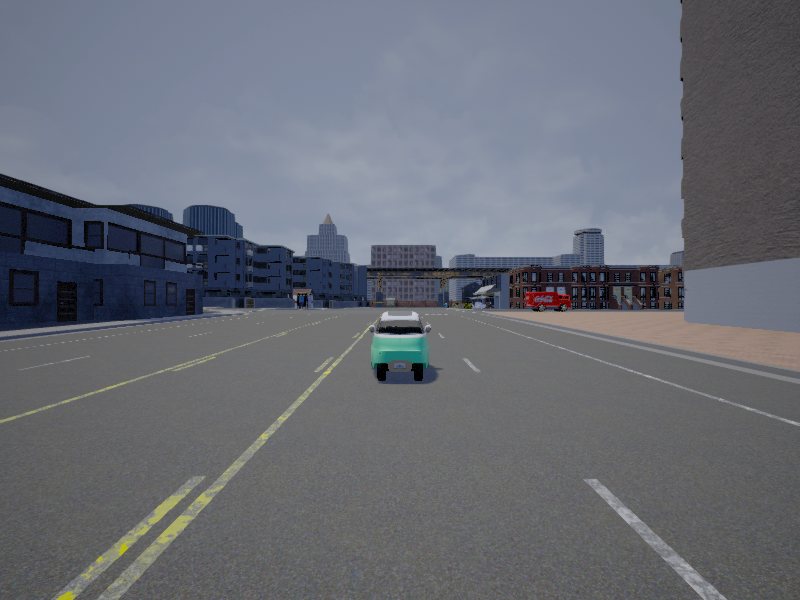Benign: (370, 311, 431, 382), (525, 292, 572, 313)
